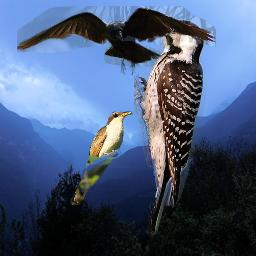Crow: (17, 6, 216, 75)
Cuckoo: (69, 109, 133, 207)
Woodpecker: (134, 14, 208, 240)
